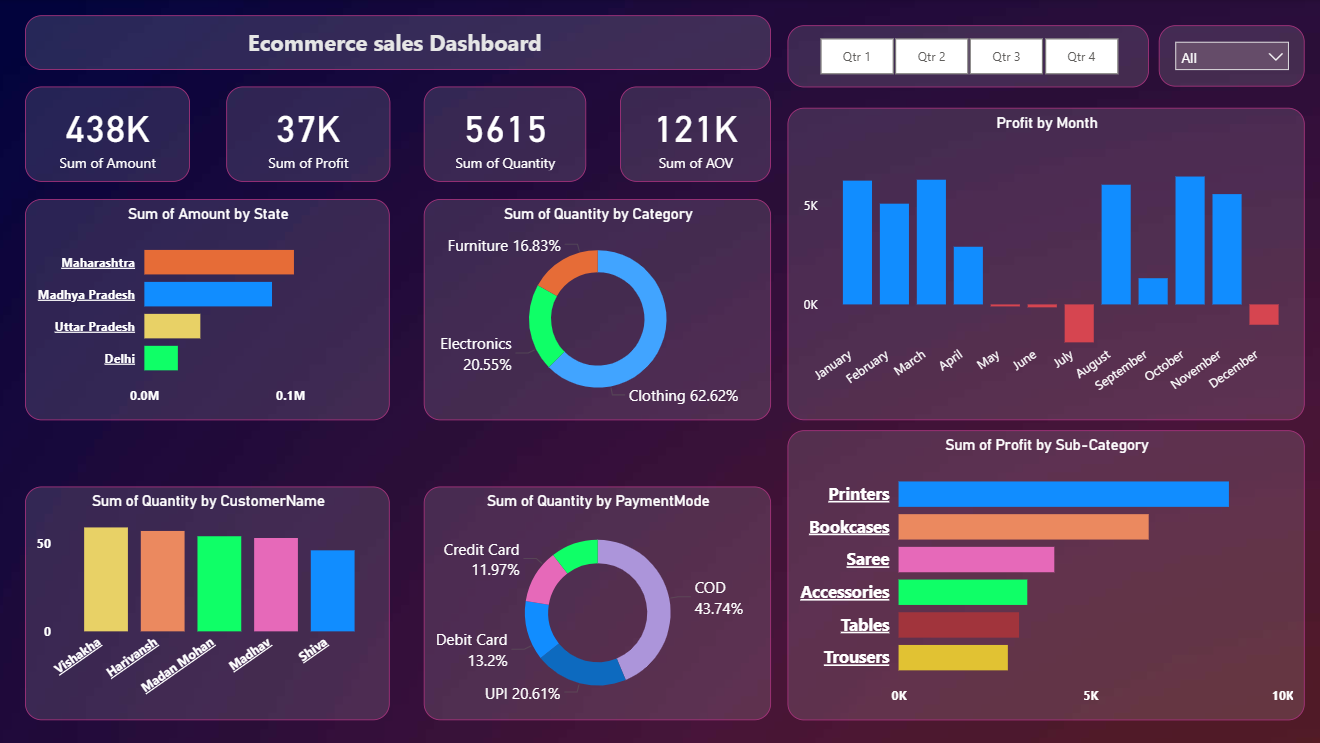

What the dashboard file says about the page in this screenshot:
{"tool":"powerbi","page":{"name":"Page 1","canvas":[1280,720],"ordinal":0},"visuals":[{"type":"columnChart","title":"Profit by Month","fields":{"Y":["Sum(Details.Profit)"],"Category":["Orders.Order Date.Variation.Date Hierarchy.Month"]},"box":[764.9,105,499.5,301.6],"z":0},{"type":"barChart","fields":{"Category":["Details.Sub-Category"],"Y":["Sum(Details.Profit)"]},"box":[764.9,416.2,499.5,279.9],"z":1000},{"type":"donutChart","fields":{"Category":["Details.Category"],"Y":["Sum(Details.Quantity)"]},"box":[413.8,193,335.4,213.5],"z":2000},{"type":"donutChart","fields":{"Y":["Sum(Details.Quantity)"],"Category":["Details.PaymentMode"]},"box":[413.8,470.5,335.4,225.6],"z":3000},{"type":"card","fields":{"Values":["Sum(Details.Amount)"]},"box":[29,84.5,159.3,91.7],"z":4000},{"type":"card","fields":{"Values":["Sum(Details.Profit)"]},"box":[223.2,84.5,158,91.7],"z":5000},{"type":"card","fields":{"Values":["Sum(Details.AOV)"]},"box":[603.2,84.5,146,91.7],"z":6000},{"type":"card","fields":{"Values":["Sum(Details.Quantity)"]},"box":[413.8,84.5,156.8,91.7],"z":7000},{"type":"barChart","fields":{"Category":["Orders.State"],"Y":["Sum(Details.Amount)"]},"box":[29,193,352.3,213.5],"z":8000},{"type":"columnChart","fields":{"Y":["Sum(Details.Quantity)"],"Category":["Orders.CustomerName"]},"box":[29,470.5,352.3,225.6],"z":9000},{"type":"textbox","box":[29,8.4,720.2,53.1],"z":10000},{"type":"slicer","fields":{"Values":["Orders.Order Date.Variation.Date Hierarchy.Quarter"]},"box":[764.9,25.3,348.7,60.3],"z":11000},{"type":"slicer","fields":{"Values":["Orders.State"]},"box":[1123.2,25.3,141.2,59.1],"z":12000}]}

Visuals, with their boxes in screenshot pixels (x1, y1, x2, y2), scaled from the page's 1280x720 canvas onto the 1320x743 screenshot:
"Profit by Month" columnChart: left=789, top=108, right=1304, bottom=420
barChart - Details.Sub-Category x Sum(Details.Profit): left=789, top=429, right=1304, bottom=718
donutChart - Details.Category x Sum(Details.Quantity): left=427, top=199, right=773, bottom=419
donutChart - Sum(Details.Quantity) x Details.PaymentMode: left=427, top=486, right=773, bottom=718
card - Sum(Details.Amount): left=30, top=87, right=194, bottom=182
card - Sum(Details.Profit): left=230, top=87, right=393, bottom=182
card - Sum(Details.AOV): left=622, top=87, right=773, bottom=182
card - Sum(Details.Quantity): left=427, top=87, right=588, bottom=182
barChart - Orders.State x Sum(Details.Amount): left=30, top=199, right=393, bottom=419
columnChart - Sum(Details.Quantity) x Orders.CustomerName: left=30, top=486, right=393, bottom=718
textbox: left=30, top=9, right=773, bottom=63
slicer - Orders.Order Date.Variation.Date Hierarchy.Quarter: left=789, top=26, right=1148, bottom=88
slicer - Orders.State: left=1158, top=26, right=1304, bottom=87
